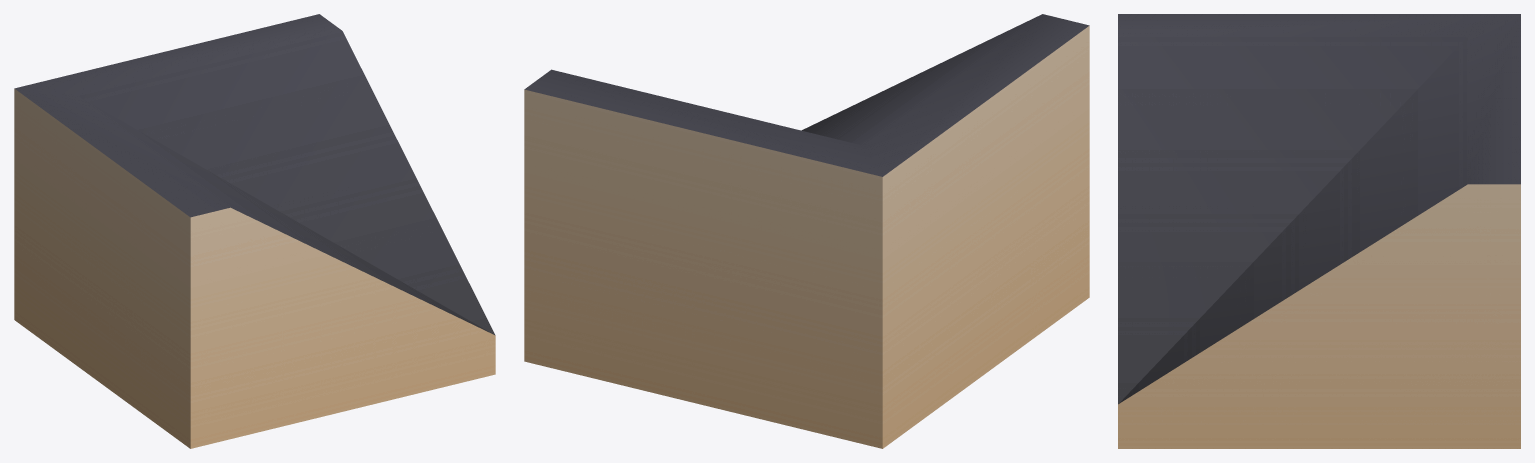
File: roof-slanted-corner-inner.glb
3 renders of one model, left to right at view 1: azimuth 30°, elevation 25°; view 2: azimuth 150°, elevation 25°; view 3: azimuth 270°, elevation 25°, orthographic. The views are drawn at different scales.
Visible parts, largest first — view 1: roof-slanted-corner-inner; view 2: roof-slanted-corner-inner; view 3: roof-slanted-corner-inner.
Part boxes in pixels (<box>): roof-slanted-corner-inner: <box>14,14,495,448</box>; roof-slanted-corner-inner: <box>524,14,1089,448</box>; roof-slanted-corner-inner: <box>1118,14,1520,448</box>.
Size of the model in its own units: 1 by 0.725 by 1.
1 material, 1 textured.
